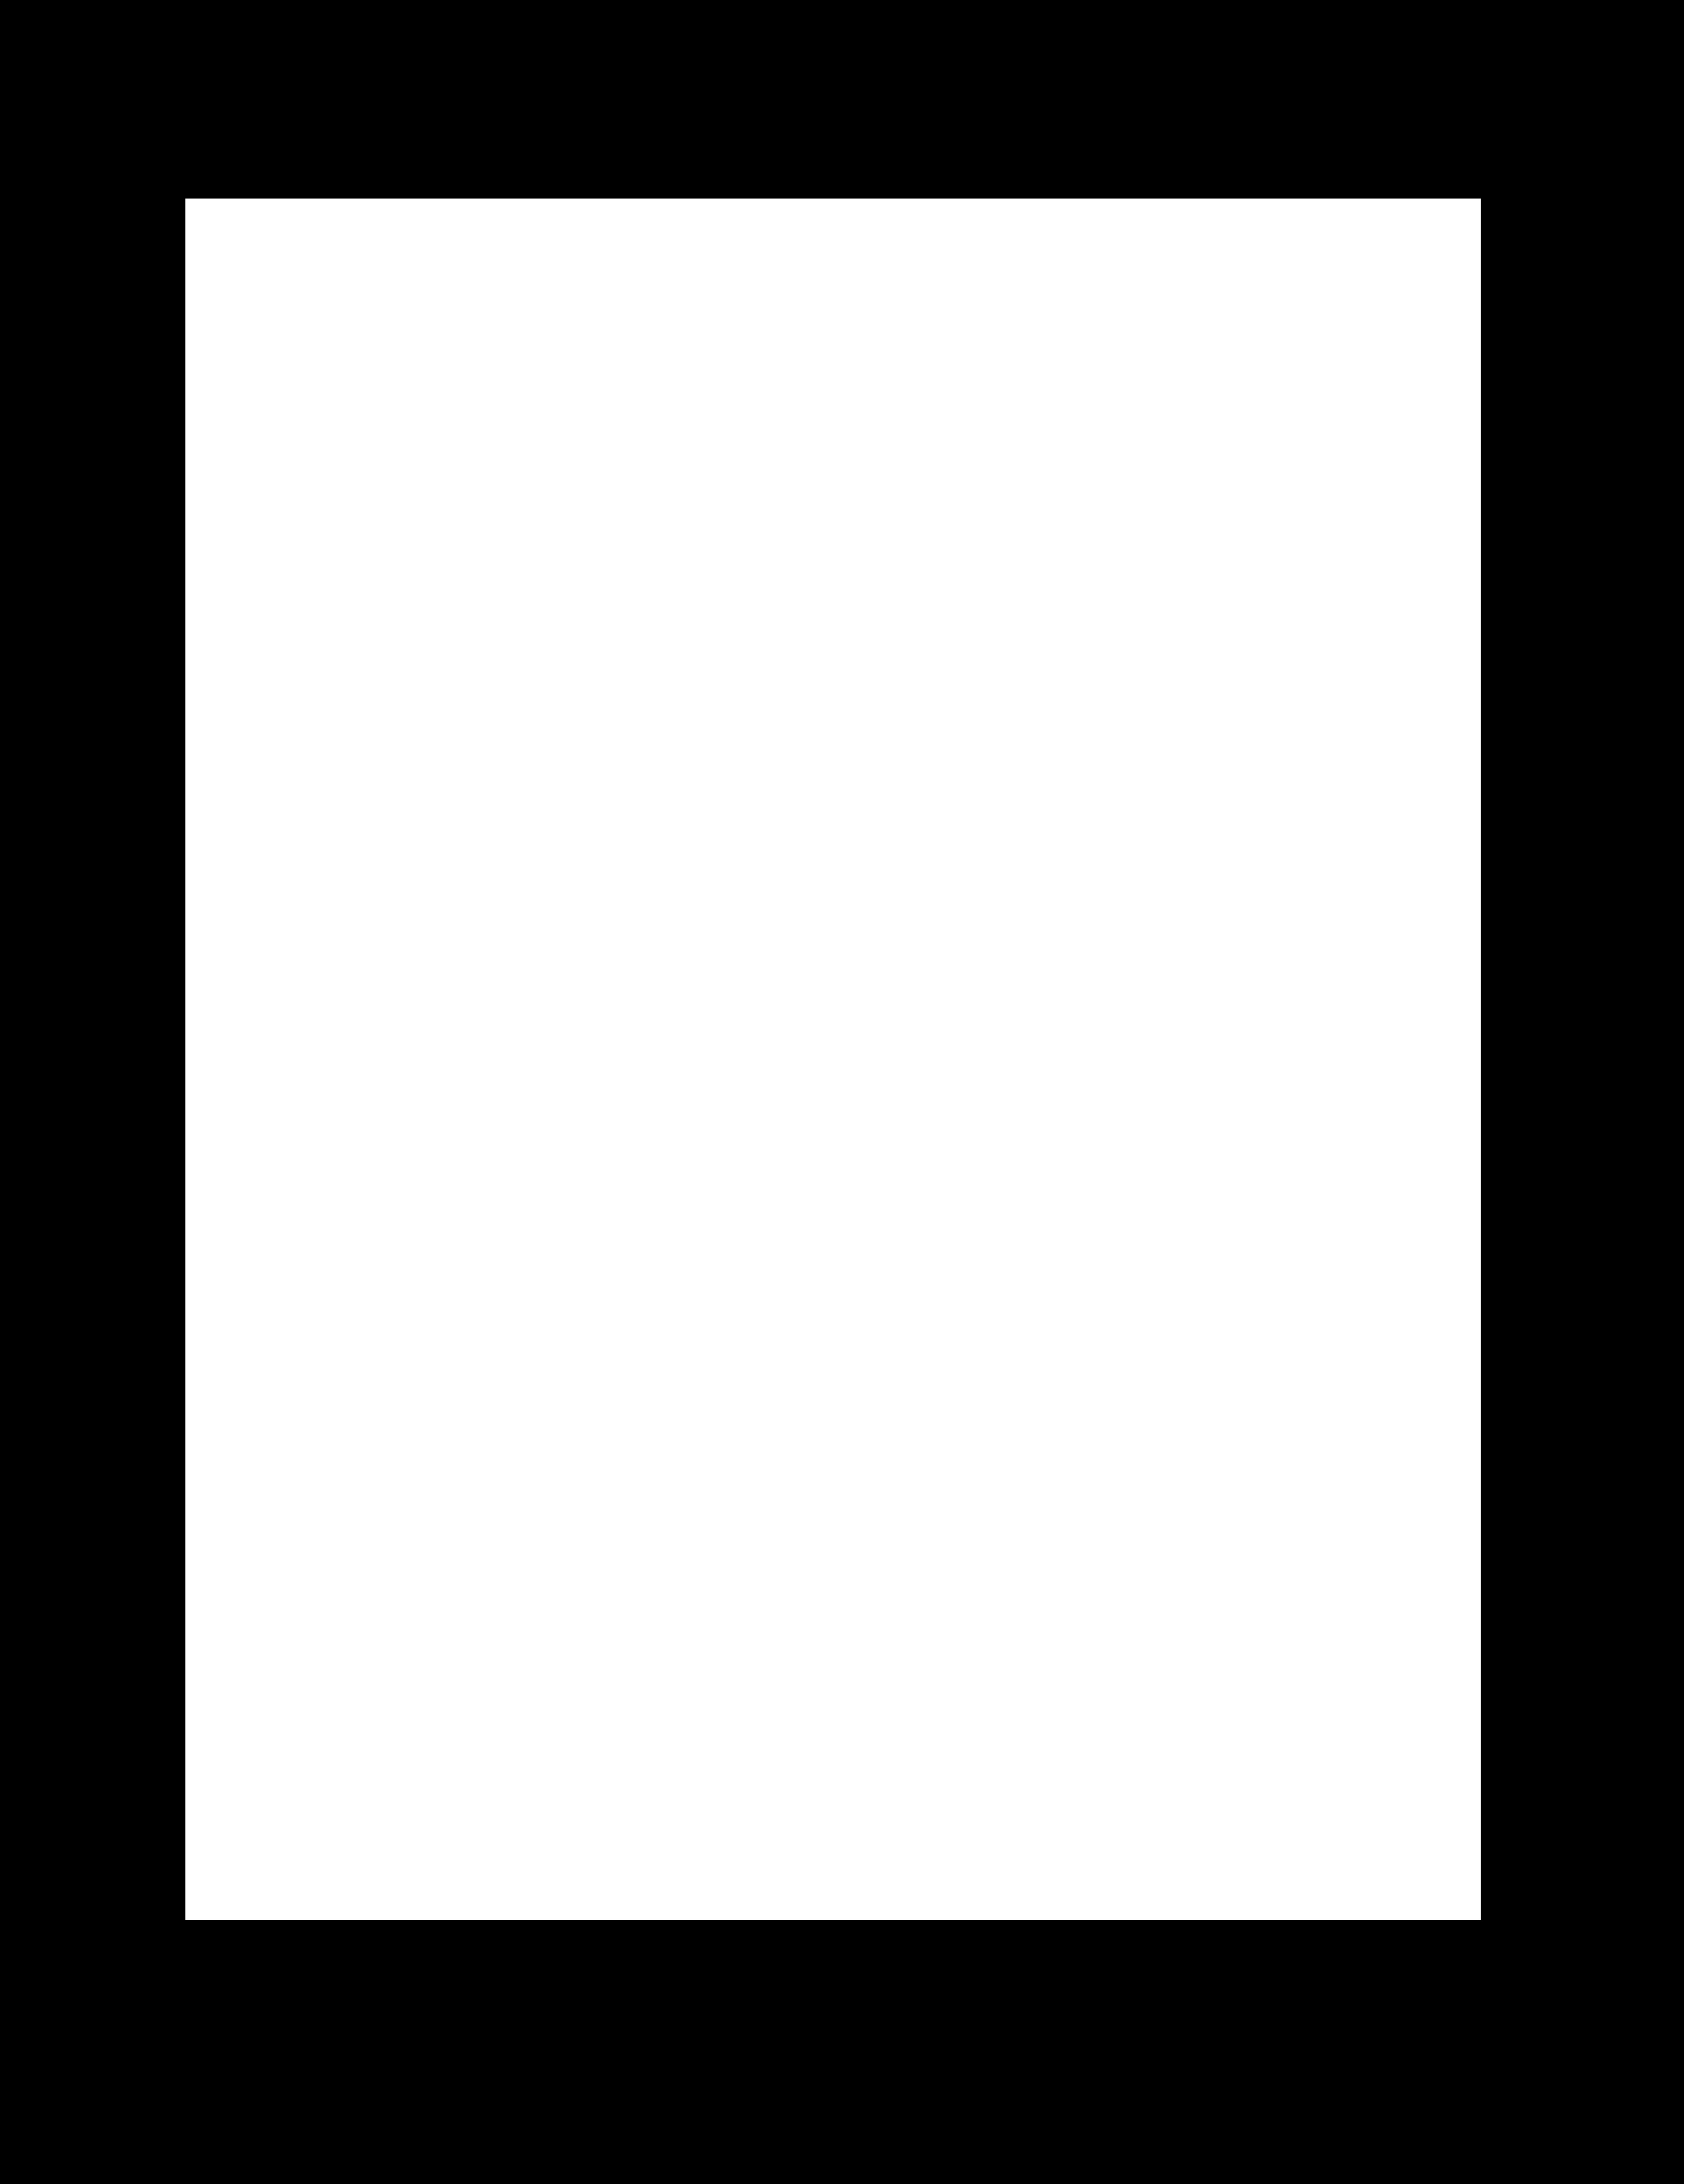table: (186, 198, 1481, 1919)
